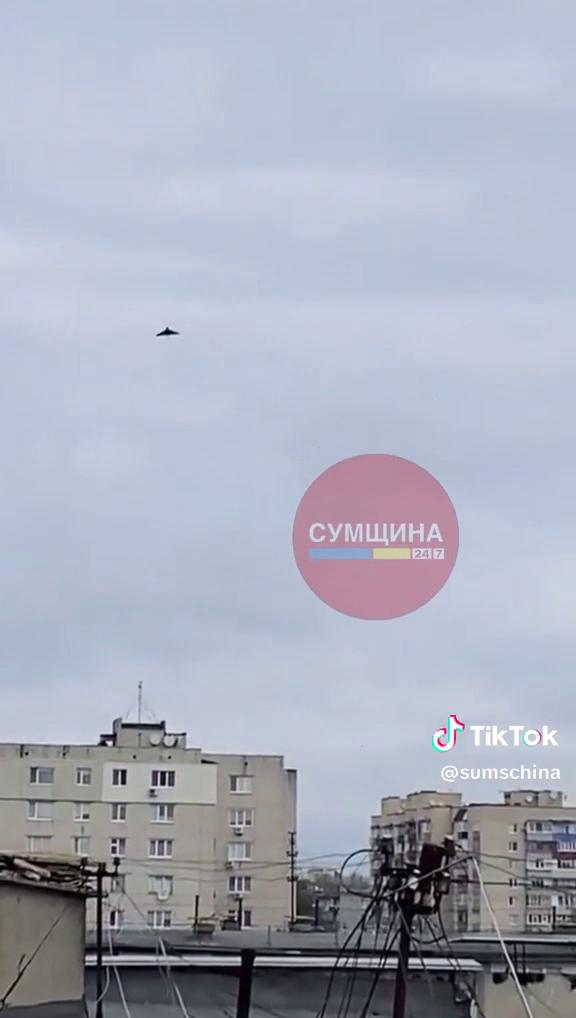shahed: (148, 318, 186, 348)
